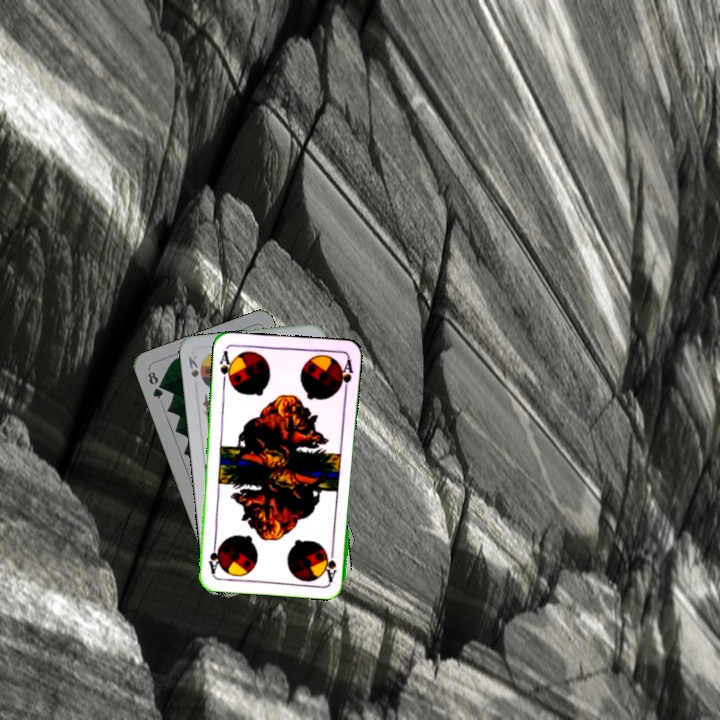G8: (144, 367, 166, 402)
SA: (216, 346, 235, 387), (322, 543, 339, 583)
SK: (184, 350, 201, 380)
